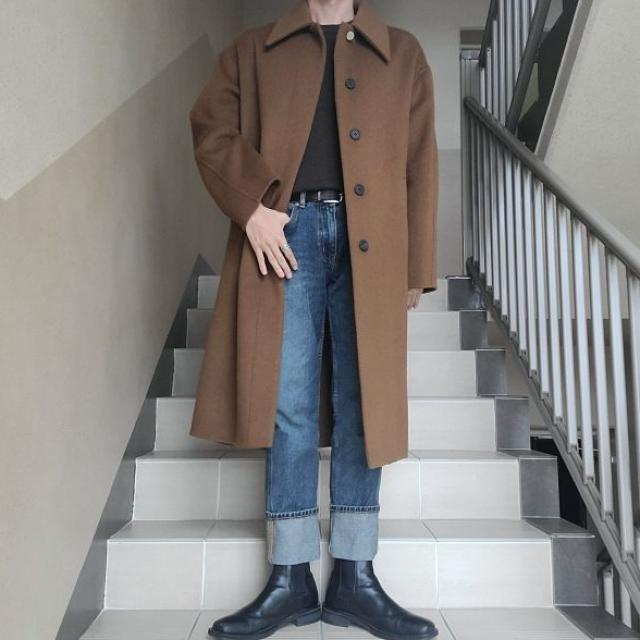coat: (187, 0, 441, 468)
denimpants: (263, 187, 383, 567)
